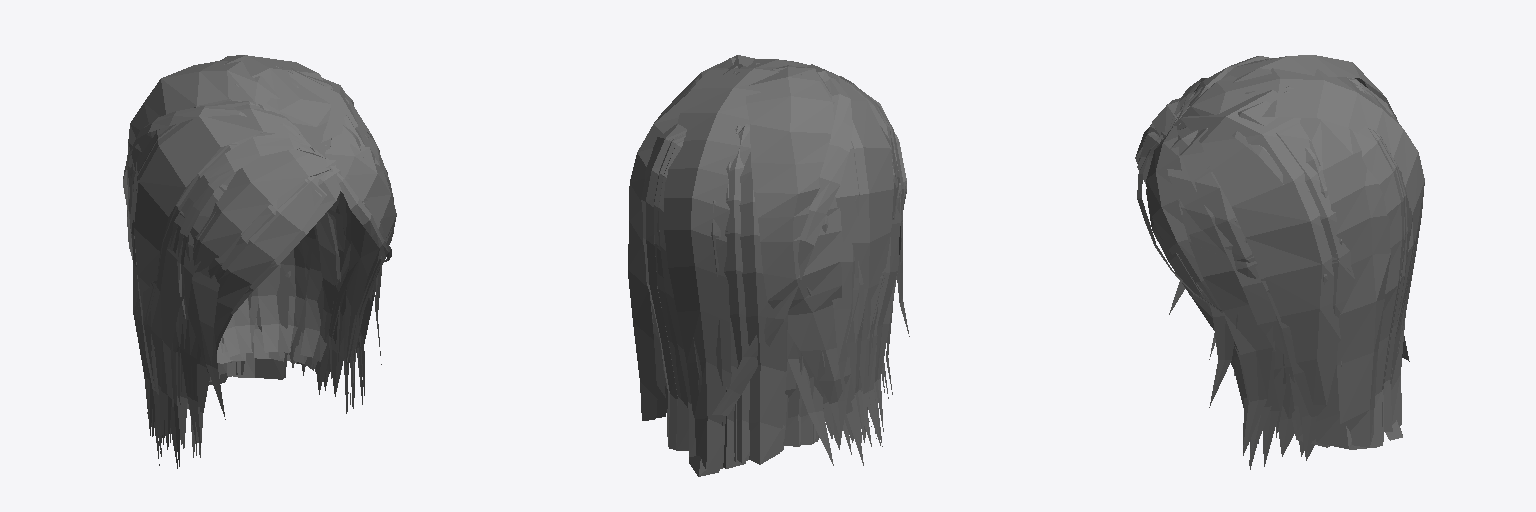
Rendered from comfy_hair.obj.
3 renders of one model, left to right at view 1: azimuth 30°, elevation 25°; view 2: azimuth 150°, elevation 25°; view 3: azimuth 270°, elevation 25°, orthographic.
Visible parts, largest first — view 1: comfy_mc_latest3:hair null1 group1 comfy_mc_latest3:hair4, comfy_mc_latest3:hair null1 group1 comfy_mc_latest3:hair1, comfy_mc_latest3:hair null1 group1 comfy_mc_latest3:hair55, comfy_mc_latest3:hair comfy_mc_latest3:hair null1 group1, comfy_mc_latest3:hair null1 group1 comfy_mc_latest3:hair36, comfy_mc_latest3:hair null1 group1 comfy_mc_latest3:hair8, comfy_mc_latest3:hair null1 group1 comfy_mc_latest3:hair60, comfy_mc_latest3:hair null1 group1 comfy_mc_latest3:hair56, comfy_mc_latest3:hair null1 group1 comfy_mc_latest3:hair37, comfy_mc_latest3:hair null1 group1 comfy_mc_latest3:hair143, comfy_mc_latest3:hair null1 group1 comfy_mc_latest3:hair142, comfy_mc_latest3:hair null1 group1 comfy_mc_latest3:hair25 (+20 smaller); view 2: comfy_mc_latest3:hair null1 group1 comfy_mc_latest3:hair8, comfy_mc_latest3:hair null1 group1 comfy_mc_latest3:hair55, comfy_mc_latest3:hair null1 group1 comfy_mc_latest3:hair4, comfy_mc_latest3:hair null1 group1 comfy_mc_latest3:hair9, comfy_mc_latest3:hair null1 group1 comfy_mc_latest3:hair15, comfy_mc_latest3:hair null1 group1 comfy_mc_latest3:hair29, comfy_mc_latest3:hair null1 group1 comfy_mc_latest3:hair73, comfy_mc_latest3:hair null1 group1 comfy_mc_latest3:hair45, comfy_mc_latest3:hair null1 group1 comfy_mc_latest3:hair54, comfy_mc_latest3:hair null1 group1 comfy_mc_latest3:hair36, comfy_mc_latest3:hair null1 group1 comfy_mc_latest3:hair11, comfy_mc_latest3:hair null1 group1 comfy_mc_latest3:hair83 (+10 smaller); view 3: comfy_mc_latest3:hair null1 group1 comfy_mc_latest3:hair69, comfy_mc_latest3:hair null1 group1 comfy_mc_latest3:hair29, comfy_mc_latest3:hair null1 group1 comfy_mc_latest3:hair8, comfy_mc_latest3:hair null1 group1 comfy_mc_latest3:hair52, comfy_mc_latest3:hair null1 group1 comfy_mc_latest3:hair73, comfy_mc_latest3:hair null1 group1 comfy_mc_latest3:hair60, comfy_mc_latest3:hair null1 group1 comfy_mc_latest3:hair63, comfy_mc_latest3:hair null1 group1 comfy_mc_latest3:hair32, comfy_mc_latest3:hair null1 group1 comfy_mc_latest3:hair97, comfy_mc_latest3:hair null1 group1 comfy_mc_latest3:hair55, comfy_mc_latest3:hair null1 group1 comfy_mc_latest3:hair58, comfy_mc_latest3:hair null1 group1 comfy_mc_latest3:hair7 (+10 smaller).
Boxes of the visible parts, x1,y1,x2,y2 form: comfy_mc_latest3:hair null1 group1 comfy_mc_latest3:hair4: [133, 104, 305, 456]; comfy_mc_latest3:hair null1 group1 comfy_mc_latest3:hair1: [183, 150, 330, 447]; comfy_mc_latest3:hair null1 group1 comfy_mc_latest3:hair55: [127, 61, 298, 259]; comfy_mc_latest3:hair comfy_mc_latest3:hair null1 group1: [195, 172, 326, 455]; comfy_mc_latest3:hair null1 group1 comfy_mc_latest3:hair36: [150, 151, 236, 449]; comfy_mc_latest3:hair null1 group1 comfy_mc_latest3:hair8: [220, 55, 331, 157]; comfy_mc_latest3:hair null1 group1 comfy_mc_latest3:hair60: [325, 144, 396, 361]; comfy_mc_latest3:hair null1 group1 comfy_mc_latest3:hair56: [185, 184, 227, 419]; comfy_mc_latest3:hair null1 group1 comfy_mc_latest3:hair37: [344, 211, 379, 413]; comfy_mc_latest3:hair null1 group1 comfy_mc_latest3:hair143: [257, 249, 295, 352]; comfy_mc_latest3:hair null1 group1 comfy_mc_latest3:hair142: [300, 209, 343, 361]; comfy_mc_latest3:hair null1 group1 comfy_mc_latest3:hair25: [170, 132, 314, 253]; comfy_mc_latest3:hair null1 group1 comfy_mc_latest3:hair8: [664, 59, 808, 468]; comfy_mc_latest3:hair null1 group1 comfy_mc_latest3:hair55: [746, 63, 850, 439]; comfy_mc_latest3:hair null1 group1 comfy_mc_latest3:hair4: [807, 64, 893, 445]; comfy_mc_latest3:hair null1 group1 comfy_mc_latest3:hair9: [739, 152, 786, 464]; comfy_mc_latest3:hair null1 group1 comfy_mc_latest3:hair15: [712, 77, 852, 416]; comfy_mc_latest3:hair null1 group1 comfy_mc_latest3:hair29: [628, 91, 689, 420]; comfy_mc_latest3:hair null1 group1 comfy_mc_latest3:hair73: [641, 124, 687, 448]; comfy_mc_latest3:hair null1 group1 comfy_mc_latest3:hair45: [724, 124, 749, 462]; comfy_mc_latest3:hair null1 group1 comfy_mc_latest3:hair54: [832, 237, 863, 465]; comfy_mc_latest3:hair null1 group1 comfy_mc_latest3:hair36: [875, 131, 902, 431]; comfy_mc_latest3:hair null1 group1 comfy_mc_latest3:hair11: [654, 134, 688, 450]; comfy_mc_latest3:hair null1 group1 comfy_mc_latest3:hair83: [658, 140, 695, 456]; comfy_mc_latest3:hair null1 group1 comfy_mc_latest3:hair69: [1181, 91, 1340, 452]; comfy_mc_latest3:hair null1 group1 comfy_mc_latest3:hair29: [1300, 118, 1390, 447]; comfy_mc_latest3:hair null1 group1 comfy_mc_latest3:hair8: [1171, 59, 1424, 425]; comfy_mc_latest3:hair null1 group1 comfy_mc_latest3:hair52: [1179, 204, 1272, 455]; comfy_mc_latest3:hair null1 group1 comfy_mc_latest3:hair73: [1353, 126, 1408, 448]; comfy_mc_latest3:hair null1 group1 comfy_mc_latest3:hair60: [1146, 126, 1248, 443]; comfy_mc_latest3:hair null1 group1 comfy_mc_latest3:hair63: [1167, 127, 1286, 437]; comfy_mc_latest3:hair null1 group1 comfy_mc_latest3:hair32: [1180, 128, 1294, 456]; comfy_mc_latest3:hair null1 group1 comfy_mc_latest3:hair97: [1238, 91, 1353, 274]; comfy_mc_latest3:hair null1 group1 comfy_mc_latest3:hair55: [1222, 55, 1396, 118]; comfy_mc_latest3:hair null1 group1 comfy_mc_latest3:hair58: [1305, 147, 1351, 448]; comfy_mc_latest3:hair null1 group1 comfy_mc_latest3:hair7: [1258, 274, 1327, 460].
Bounding box in the file's own units: 1.23 × 1.97 × 1.38.